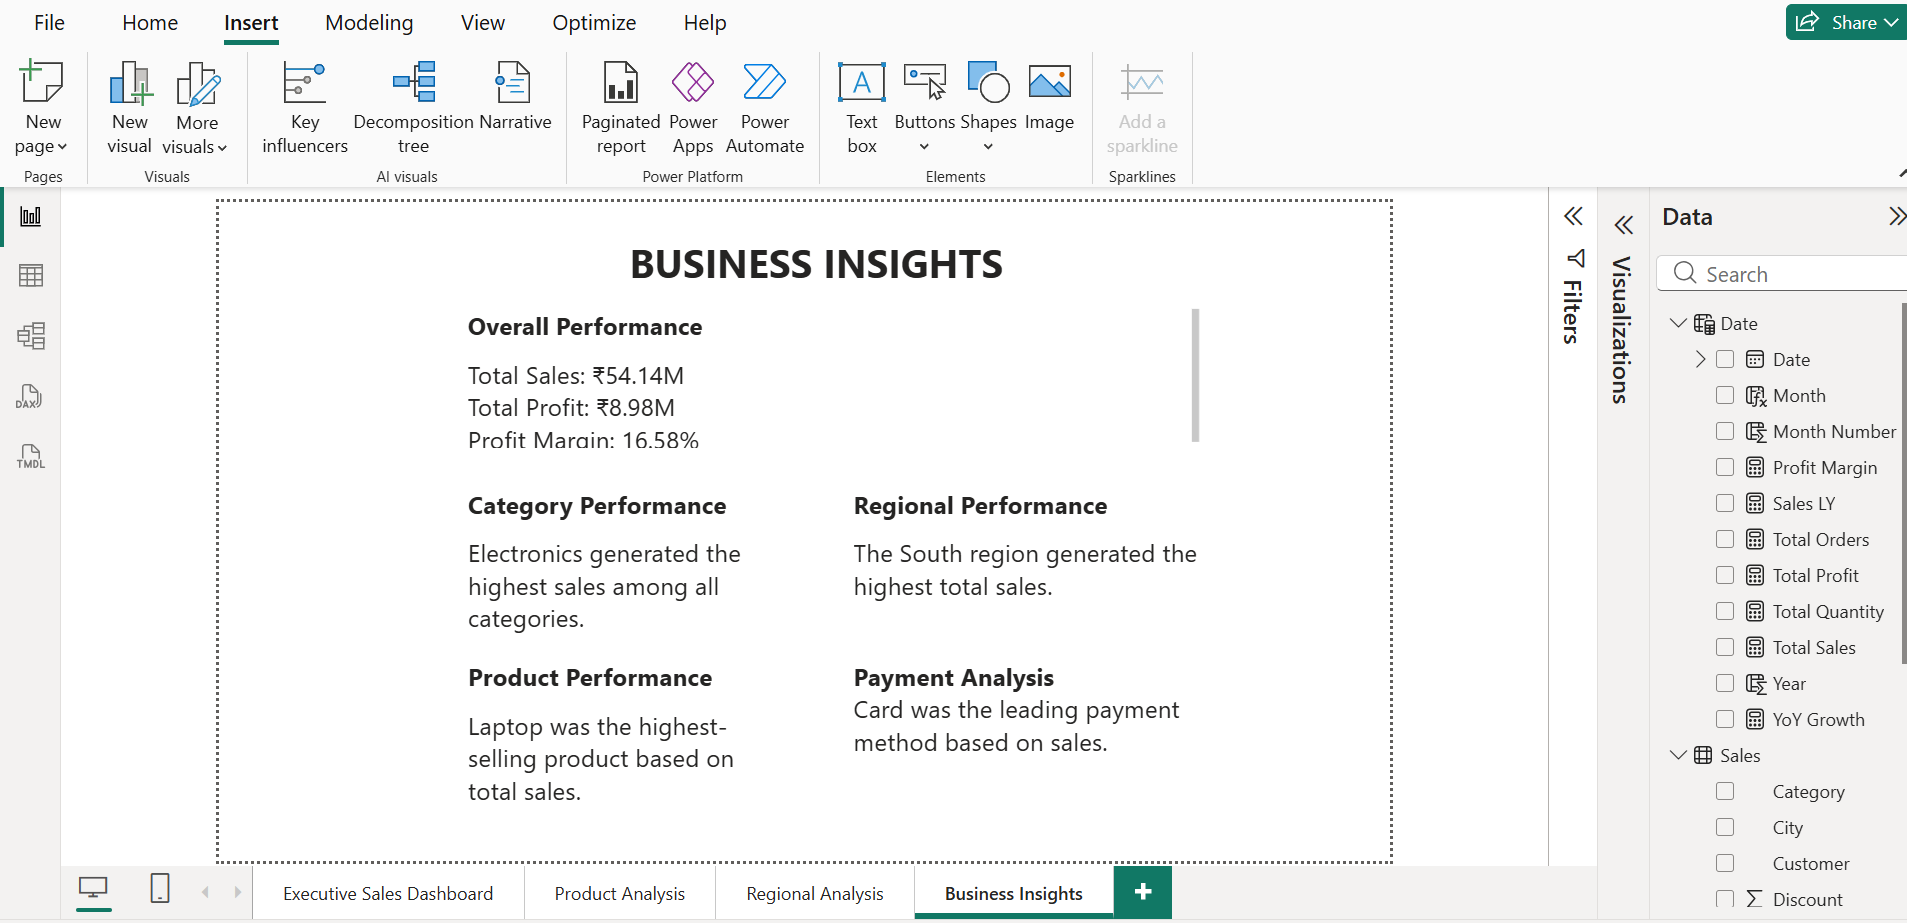

The dashboard page shown, as its layout file describes it:
{"tool":"powerbi","page":{"name":"Business Insights","canvas":[1280,720],"ordinal":3},"visuals":[{"type":"textbox","box":[10,0,280,280],"z":0},{"type":"textbox","box":[10,290,280,280],"z":1000},{"type":"textbox","box":[266.5,111.5,808.8,162.5],"z":2000},{"type":"textbox","box":[266.5,306.1,328.8,189],"z":3000},{"type":"textbox","box":[687.9,306.1,387.4,189],"z":4000},{"type":"textbox","box":[266.5,495.1,328.8,206],"z":5000},{"type":"textbox","box":[687.9,495.1,387.4,156.9],"z":6000},{"type":"textbox","box":[309.9,0,729.5,111.5],"z":7000}]}

Visuals, with their boxes on the page's 1280x720 design canvas (x1, y1, x2, y2). These are canvas units, not pixel positions in the 1907x923 screenshot, which may show the page scaled, cropped or inside an application window:
textbox: x1=10 y1=0 x2=290 y2=280
textbox: x1=10 y1=290 x2=290 y2=570
textbox: x1=266 y1=112 x2=1075 y2=274
textbox: x1=266 y1=306 x2=595 y2=495
textbox: x1=688 y1=306 x2=1075 y2=495
textbox: x1=266 y1=495 x2=595 y2=701
textbox: x1=688 y1=495 x2=1075 y2=652
textbox: x1=310 y1=0 x2=1039 y2=112
